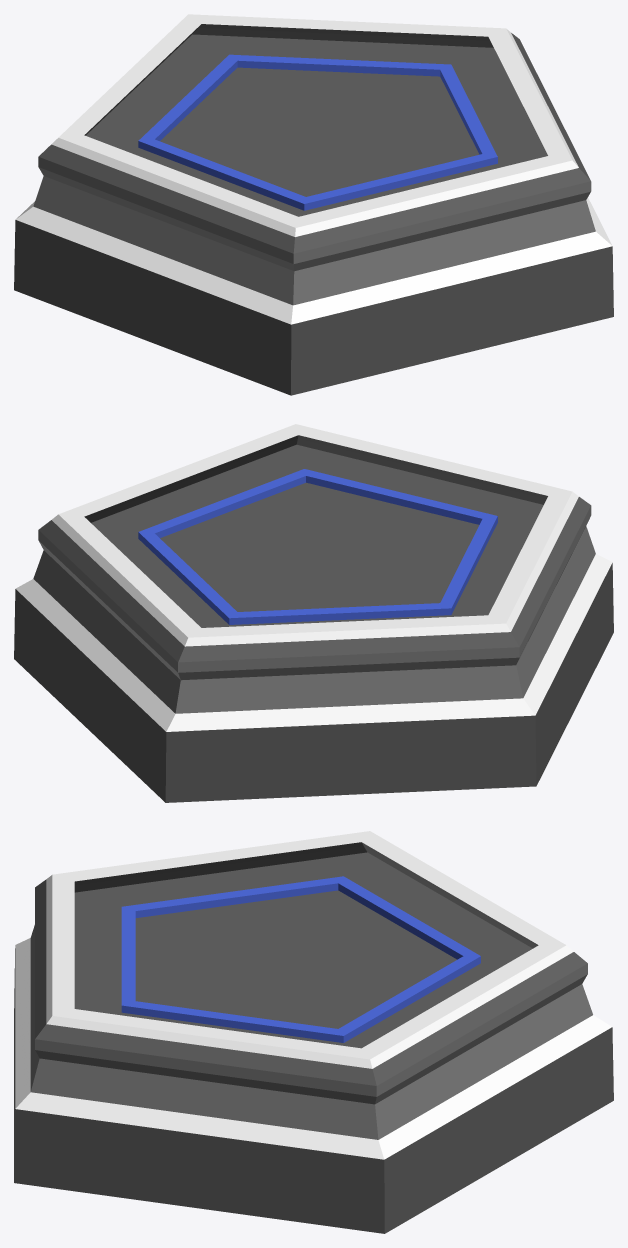
The model's file is PlatformRocket 1.fbx.
The picture shows the model from 3 angles, top to bottom: view 1: azimuth 30°, elevation 25°; view 2: azimuth 150°, elevation 25°; view 3: azimuth 270°, elevation 25°; orthographic projection. The views are drawn at different scales.
Parts seen in each view (by area): view 1: Círculo; view 2: Círculo; view 3: Círculo.
Part boxes in pixels (left/top/right/bottom): Círculo: left=14, top=14, right=613, bottom=395; Círculo: left=14, top=424, right=613, bottom=802; Círculo: left=14, top=831, right=613, bottom=1233.
Bounding box in the file's own units: 20.45 × 5.56 × 19.45.
